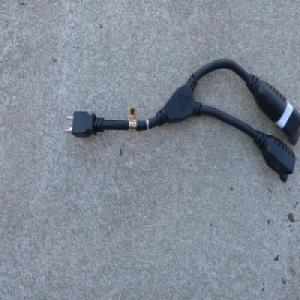Wire: (64, 57, 300, 181)
